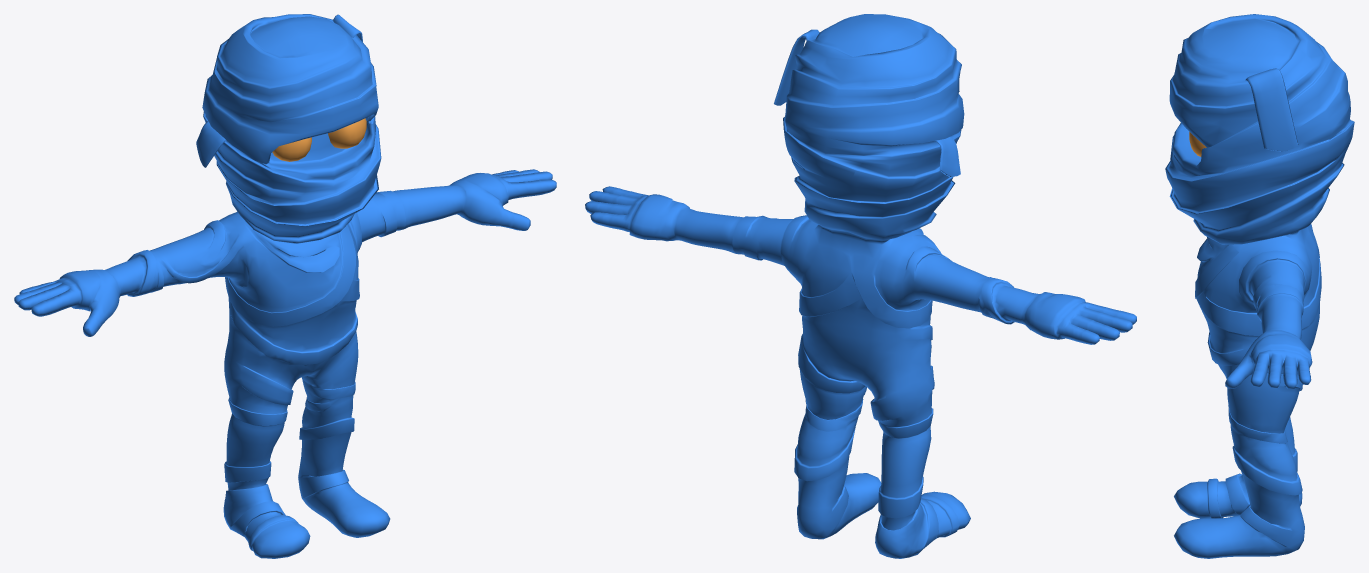
Rendered from Mummy enemy.fbx.
The picture shows the model from 3 angles, left to right: view 1: azimuth 30°, elevation 25°; view 2: azimuth 150°, elevation 25°; view 3: azimuth 270°, elevation 25°; orthographic projection.
Visible parts, largest first — view 1: Mummy; view 2: Mummy; view 3: Mummy.
Boxes of the visible parts, x1,y1,x2,y2 form: Mummy: (14,14,556,558); Mummy: (585,14,1136,558); Mummy: (1165,14,1354,558).
Size of the model in its own units: 251 by 227 by 77.43.
